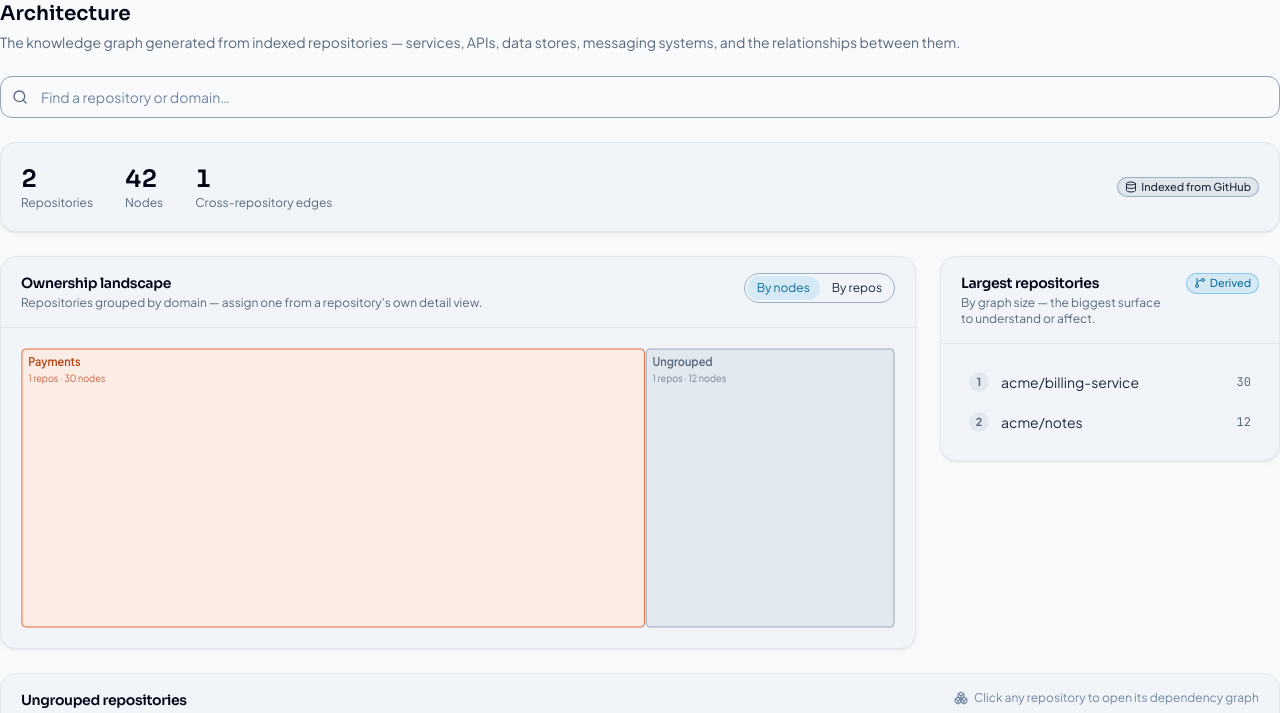
Test: ArchitecturePage › landing view › filters repositories by search
Type "billing" into the field named "Search repositories and domains" at (640, 97), box [0,76,1279,118]
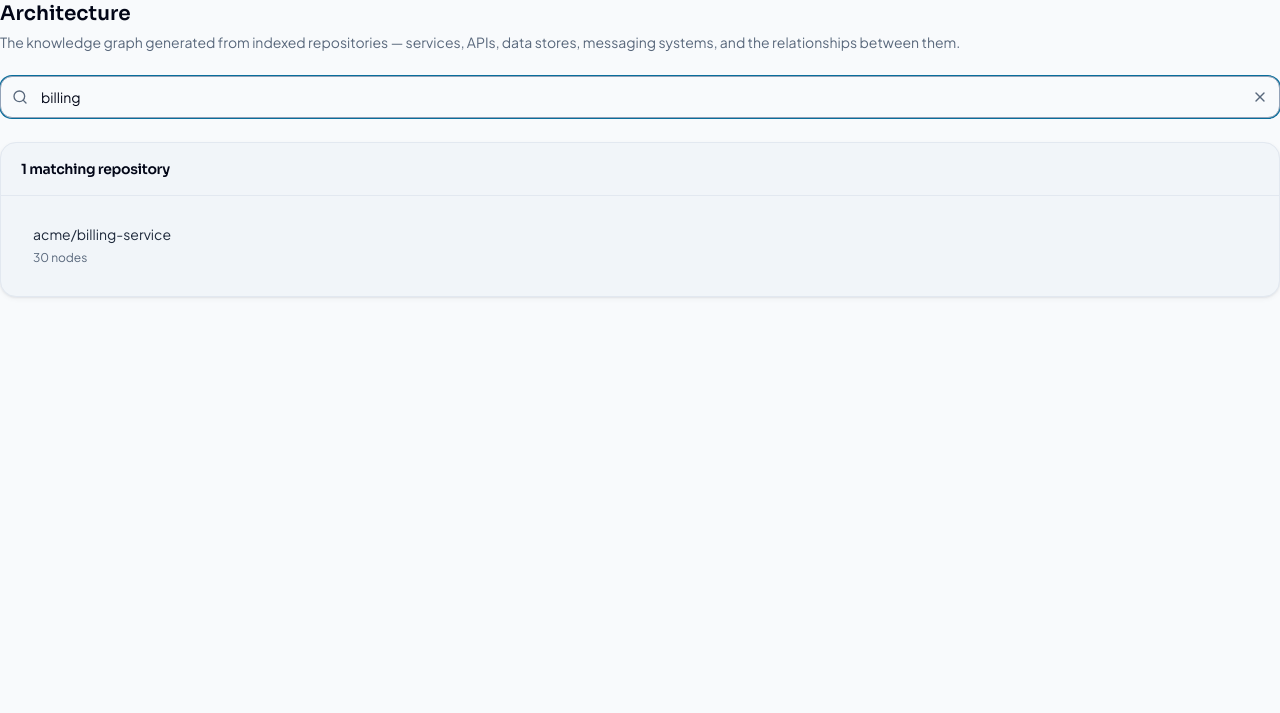
expect the text "acme/billing-service" is shown: met, box [33,225,171,243]
expect the button "acme/notes" is gone: met
